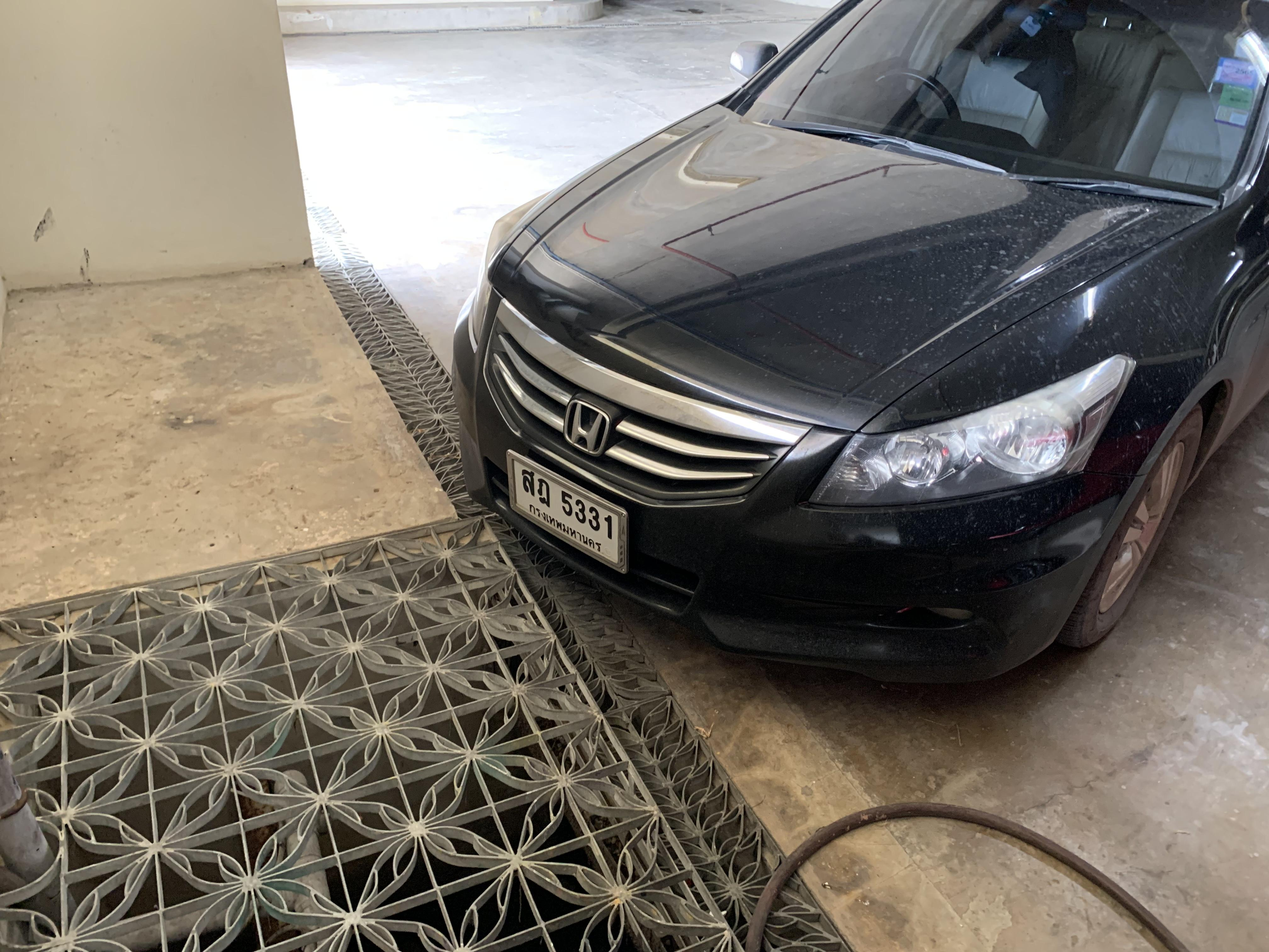license-plate: (506, 447, 630, 574)
